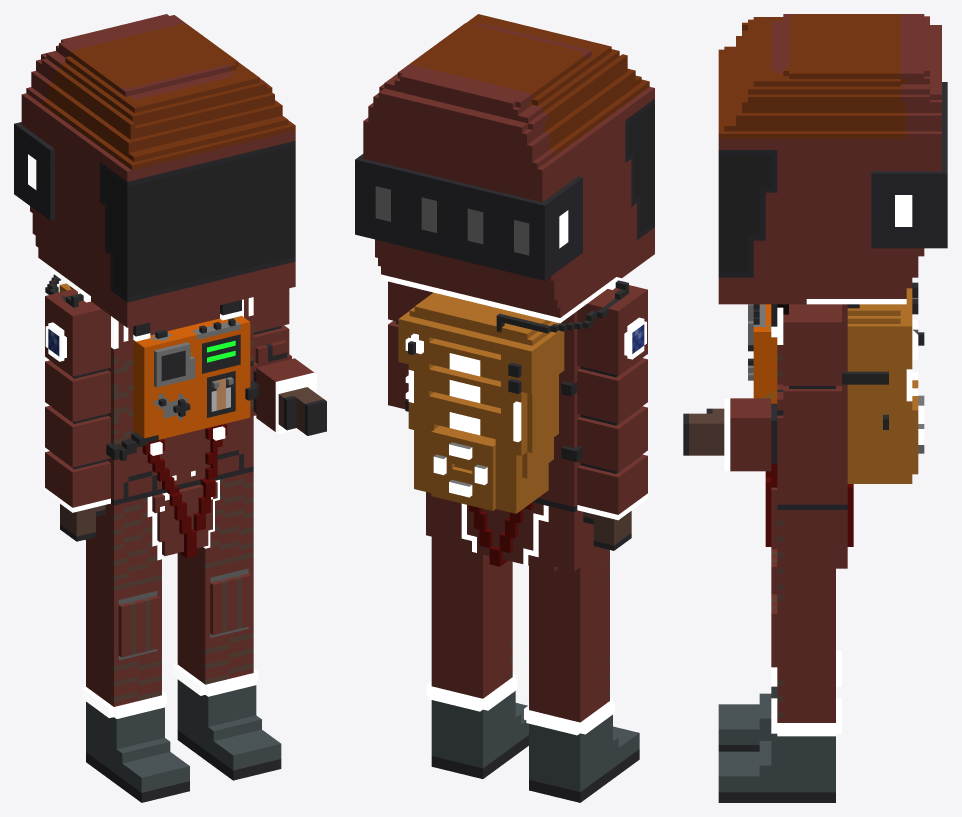
File: astronaut.glb
3 renders of one model, left to right at view 1: azimuth 30°, elevation 25°; view 2: azimuth 150°, elevation 25°; view 3: azimuth 270°, elevation 25°, orthographic. The views are drawn at different scales.
Visible parts, largest first — view 1: astronaut.vox-1.001; view 2: astronaut.vox-1.001; view 3: astronaut.vox-1.001.
Part boxes in pixels (bbox=[...]): astronaut.vox-1.001: bbox=[14, 14, 326, 802]; astronaut.vox-1.001: bbox=[355, 14, 654, 802]; astronaut.vox-1.001: bbox=[683, 14, 947, 802].
Bounding box in the file's own units: 4.6 × 13.6 × 4.5.
6 materials, 2 textured.
